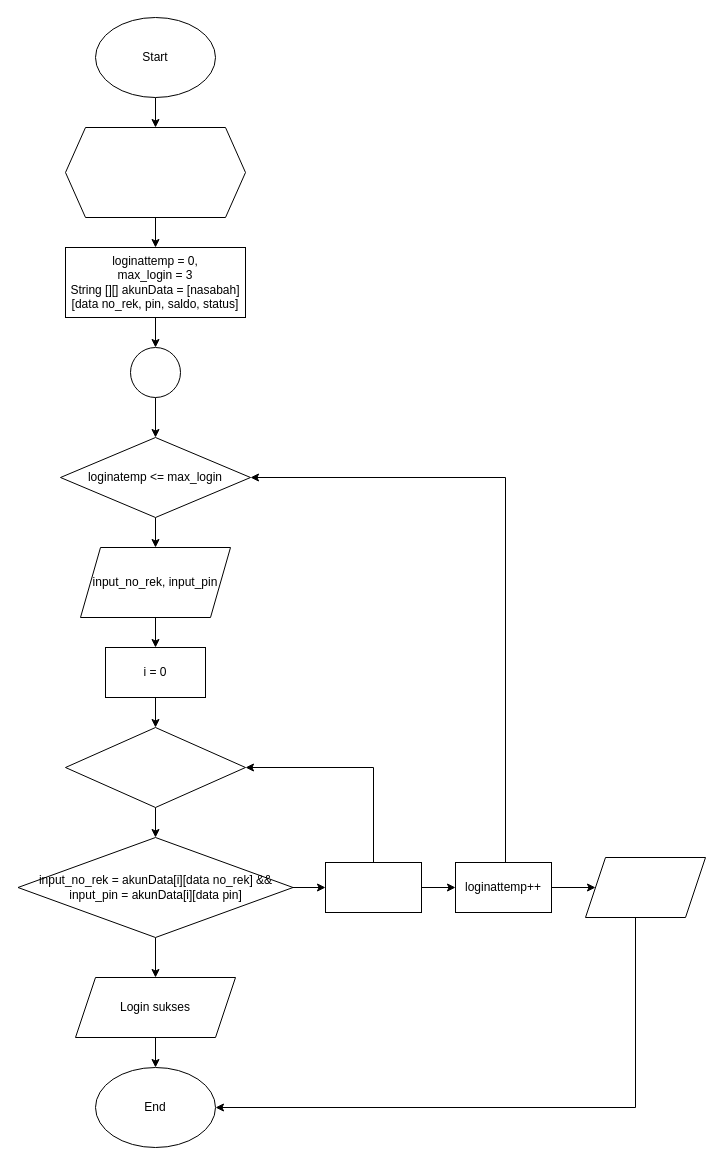
Image size: 723x1165. Some labels were removed from this diagram. The shapes that lost their labels are listed below. From the top down, each one's centre as x and y in pixels, then its label:
point 155,172: String[][] akunData, input_no_rek, input_pin int loginattemp, max_login
point 155,767: i < akundata.length
point 373,887: i++
point 645,887: Gagal login
